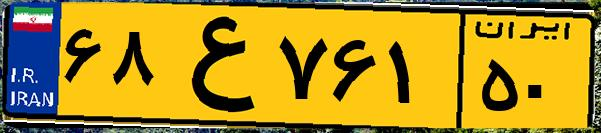0: (525, 38, 570, 115)
1: (385, 28, 445, 110)
5: (475, 38, 525, 113)
6: (330, 28, 385, 110), (57, 26, 110, 100)
7: (270, 28, 330, 110)
8: (110, 28, 158, 98)
ع: (158, 12, 270, 120)
